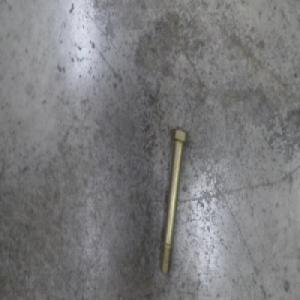Bolt: (158, 127, 188, 275)
